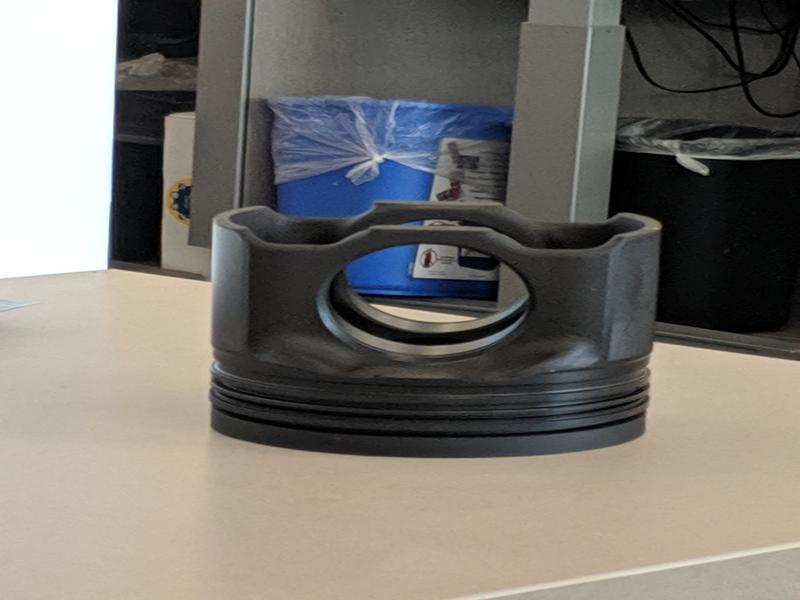piston: (205, 197, 667, 462)
